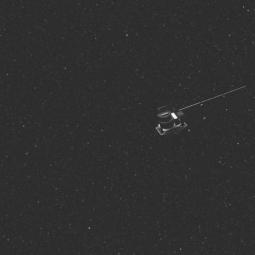earth_observation_sat_1: (145, 82, 251, 146)
